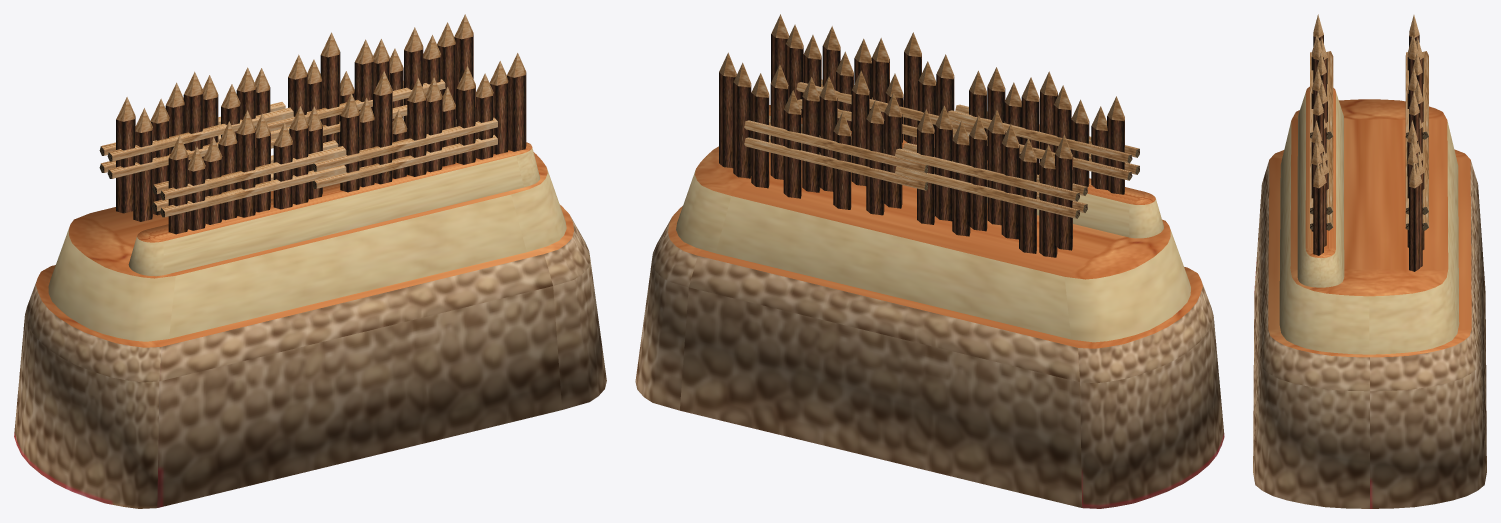
The model's file is wall_med.dae.
3 views of the same model, side by side, from view 1: azimuth 30°, elevation 25°; view 2: azimuth 150°, elevation 25°; view 3: azimuth 270°, elevation 25° (orthographic). The views are drawn at different scales.
Visible parts, largest first — view 1: wall_med; view 2: wall_med; view 3: wall_med.
Part boxes in pixels (x1,y1,x2,y2): wall_med: (14, 14, 606, 508); wall_med: (635, 14, 1224, 508); wall_med: (1253, 14, 1486, 508).
Bounding box in the file's own units: 28.3 × 11.66 × 17.45.
